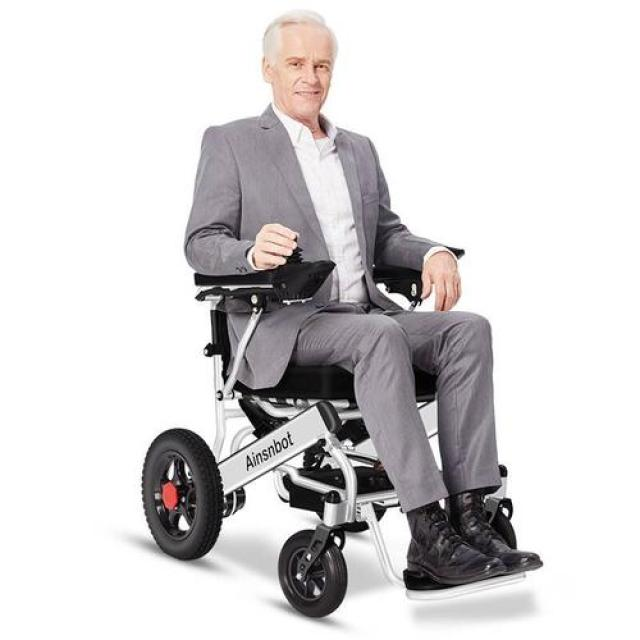wheelchairs: (117, 254, 550, 625)
